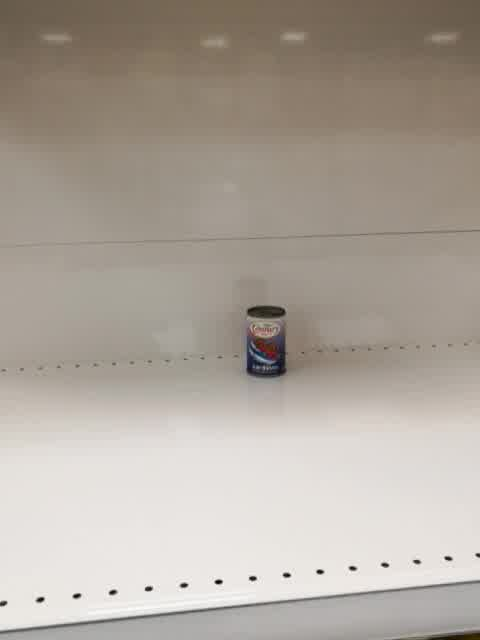sardine: (245, 304, 287, 379)
